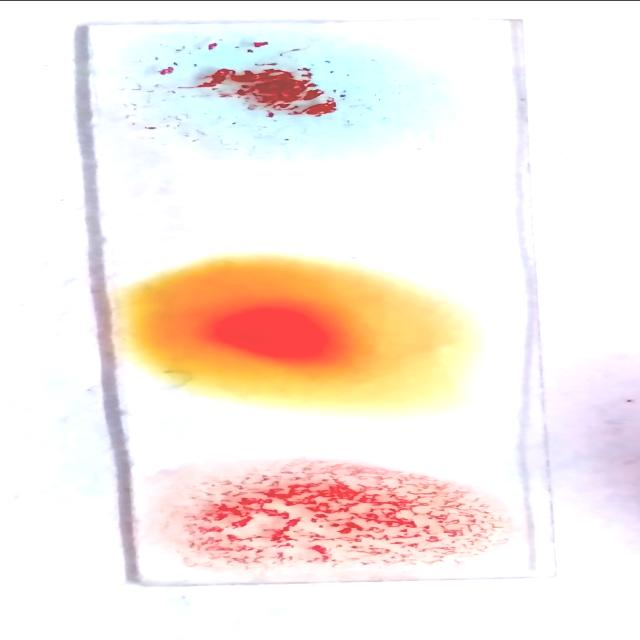A: (119, 29, 441, 146)
D: (164, 460, 496, 573)
